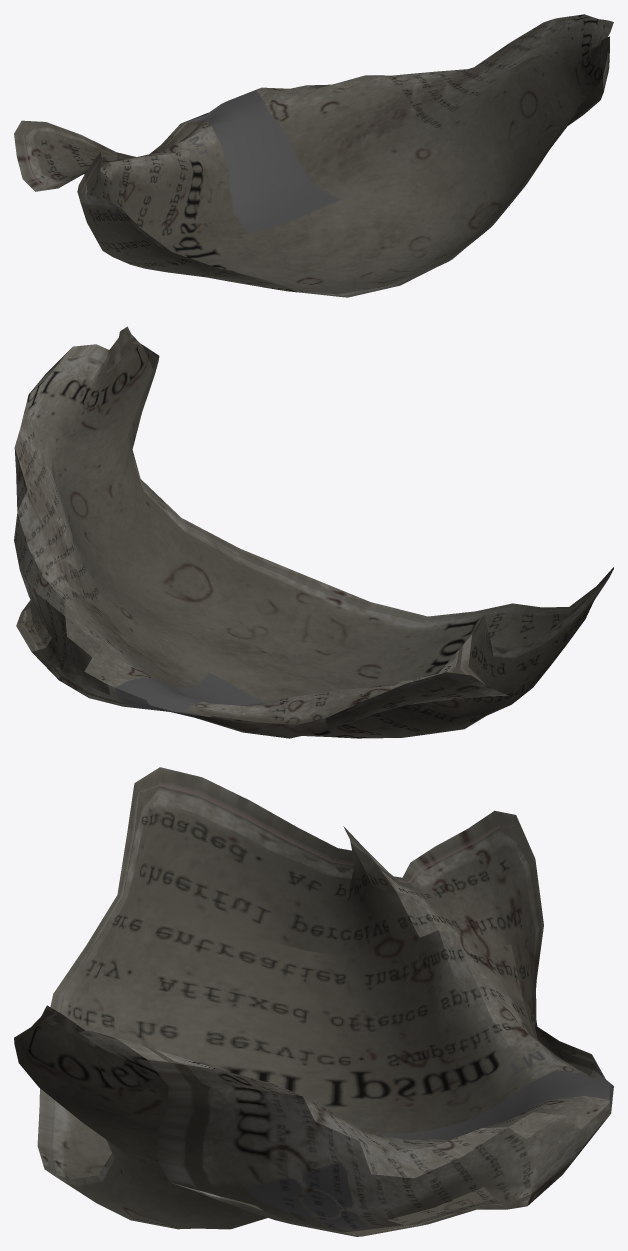
The model's file is SM_Crumpled_Paper_01d.fbx.
The picture shows the model from 3 angles, top to bottom: view 1: azimuth 30°, elevation 25°; view 2: azimuth 150°, elevation 25°; view 3: azimuth 270°, elevation 25°; orthographic projection. The views are drawn at different scales.
Visible parts, largest first — view 1: SM_Crumpled_Paper_01d_LOD0; view 2: SM_Crumpled_Paper_01d_LOD0; view 3: SM_Crumpled_Paper_01d_LOD0.
Part boxes in pixels (x1,y1,x2,y2): SM_Crumpled_Paper_01d_LOD0: (14, 14, 613, 297); SM_Crumpled_Paper_01d_LOD0: (14, 326, 613, 738); SM_Crumpled_Paper_01d_LOD0: (14, 767, 613, 1236).
Bounding box in the file's own units: 8.55 × 5.74 × 3.53.
